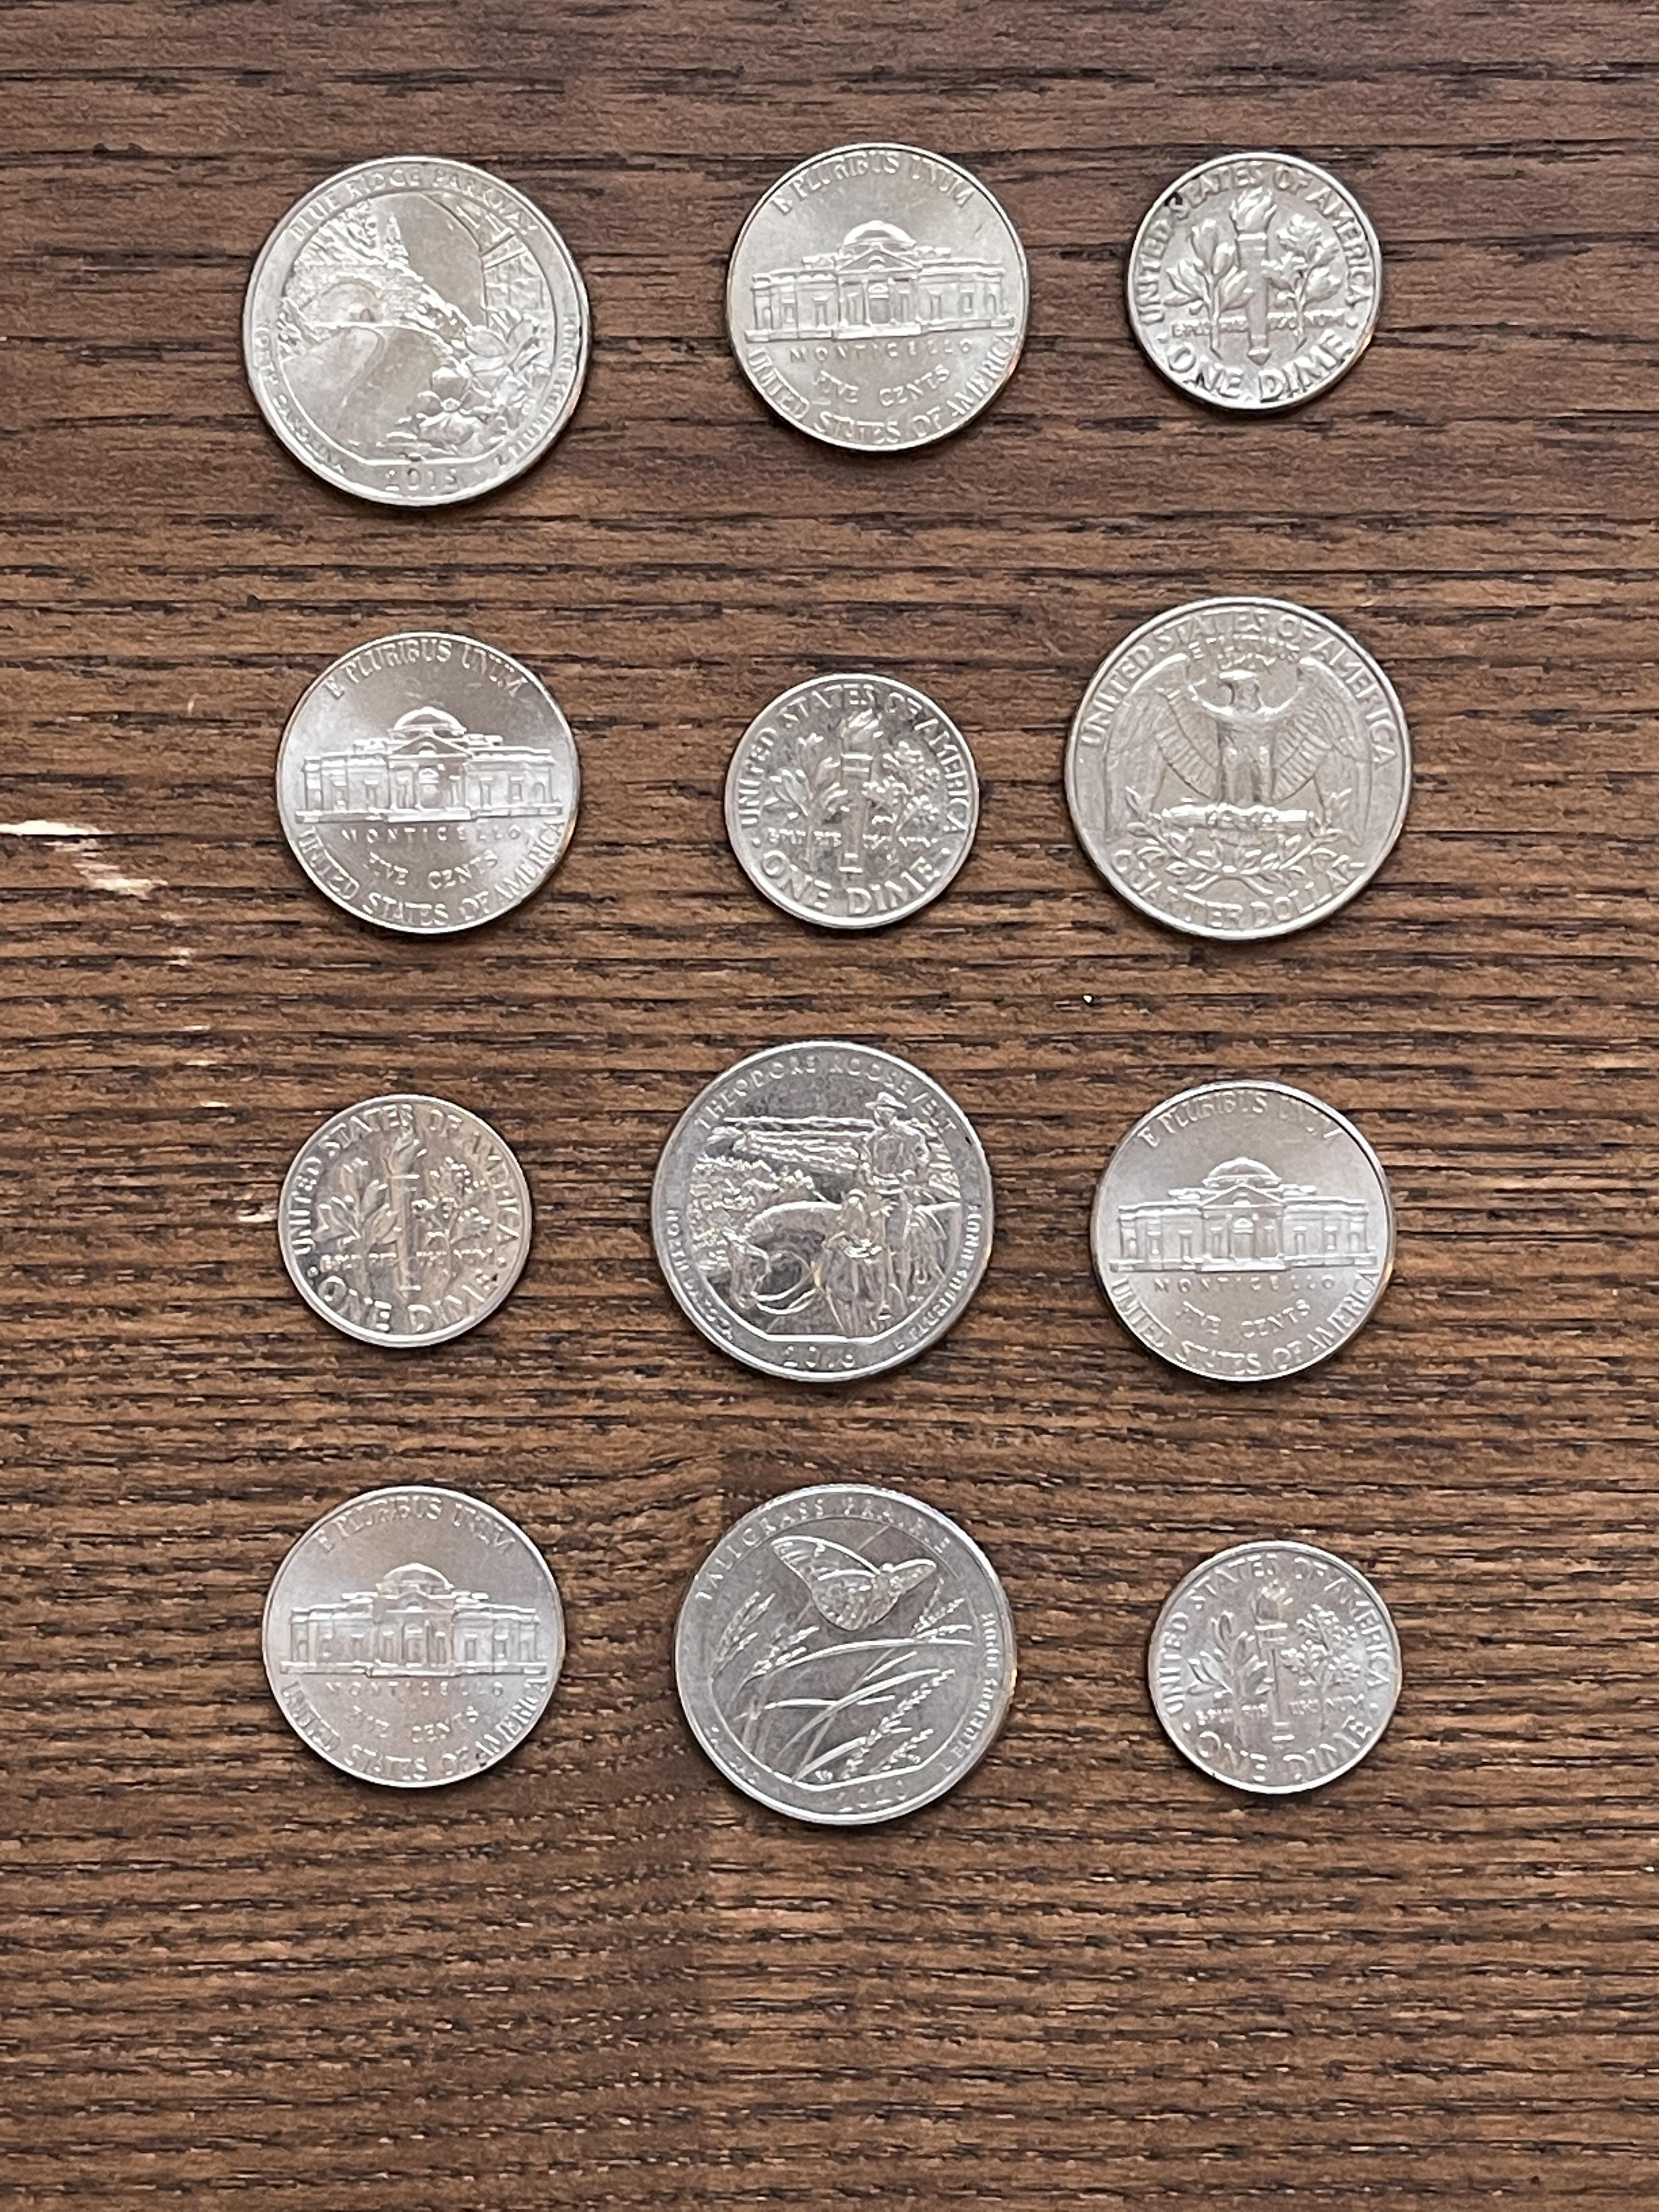Dime: (1143, 1533, 1408, 1803), (1126, 152, 1389, 416), (721, 674, 983, 930), (274, 1094, 533, 1346)
Nickel: (721, 143, 1037, 456), (1091, 1075, 1399, 1390), (261, 1486, 566, 1791), (275, 632, 586, 932)
Quarter: (240, 153, 598, 514), (647, 1035, 1002, 1386), (671, 1480, 1023, 1831), (1058, 597, 1413, 941)
